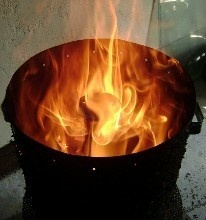fire: (32, 2, 183, 141)
